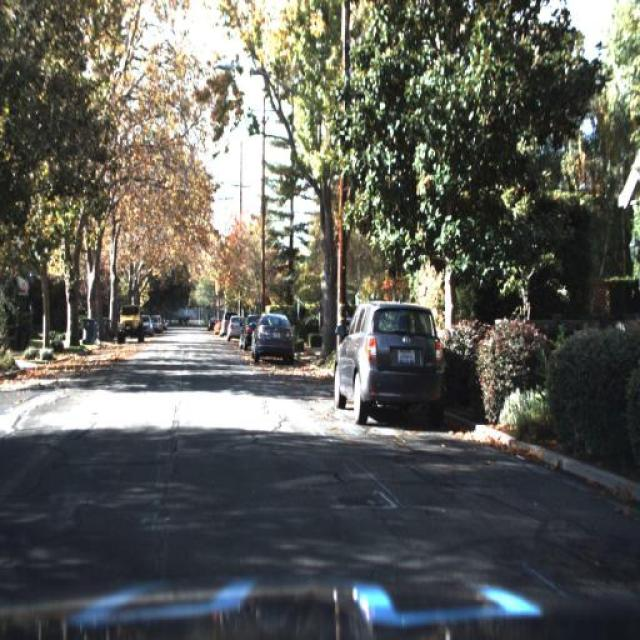car: (330, 290, 462, 428), (248, 309, 294, 367), (115, 304, 147, 342), (223, 308, 243, 350), (238, 312, 254, 358), (140, 308, 155, 341), (150, 311, 162, 340)
